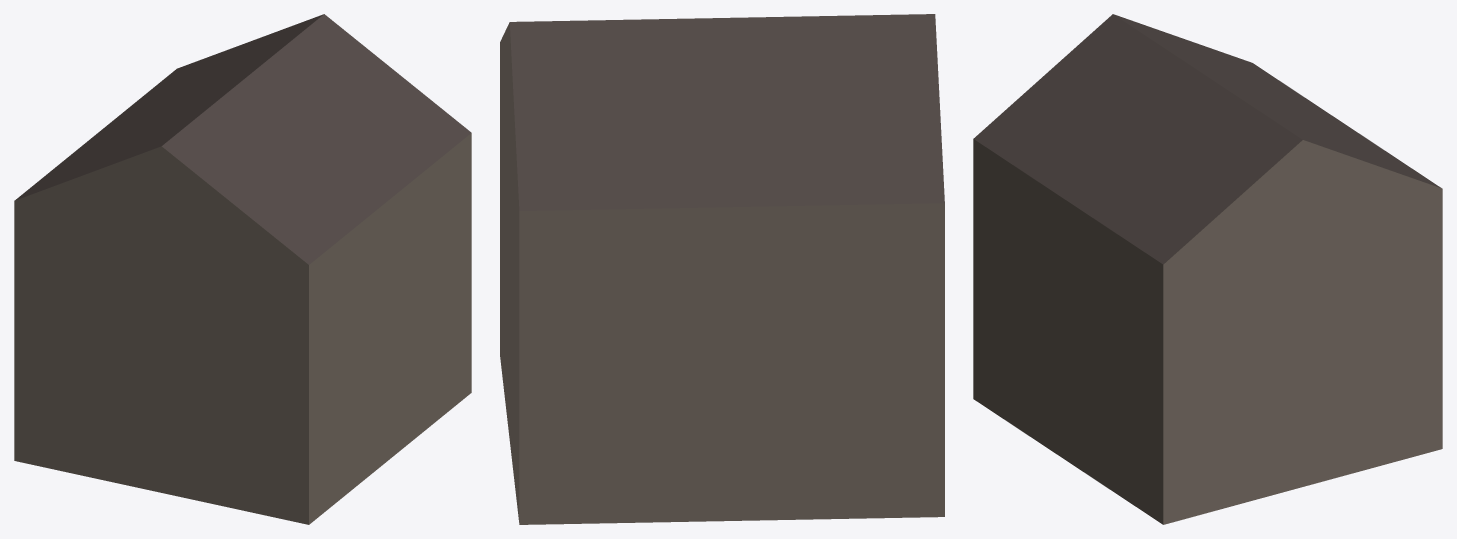
3 views of the same model, side by side, from view 1: azimuth 30°, elevation 25°; view 2: azimuth 150°, elevation 25°; view 3: azimuth 270°, elevation 25° (orthographic). The views are drawn at different scales.
Parts seen in each view (by area): view 1: HP-w1202250224; view 2: HP-w1202250224; view 3: HP-w1202250224.
Boxes of the visible parts, left/top/right/bottom form: HP-w1202250224: left=14, top=14, right=471, bottom=524; HP-w1202250224: left=500, top=14, right=944, bottom=524; HP-w1202250224: left=973, top=14, right=1442, bottom=524.
Size of the model in its own units: 9.98 by 8 by 9.8.
